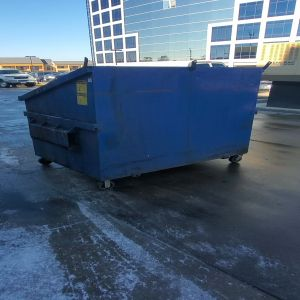Dumpster: (21, 65, 263, 193)
